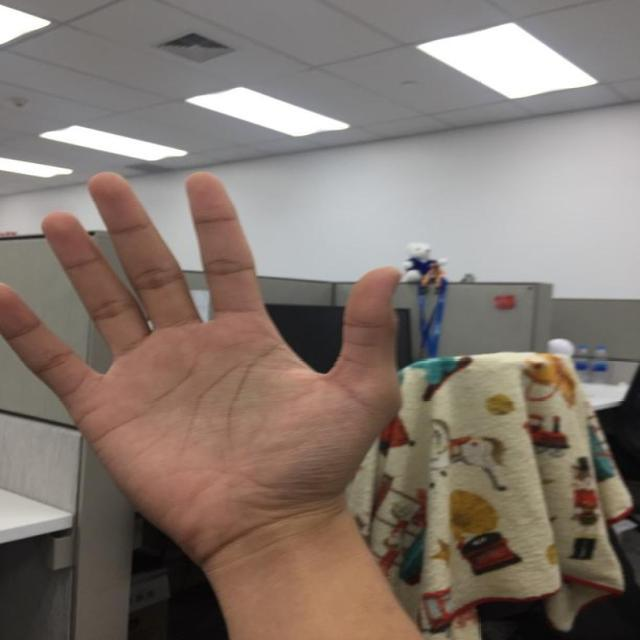no-gloves: (0, 173, 406, 545)
